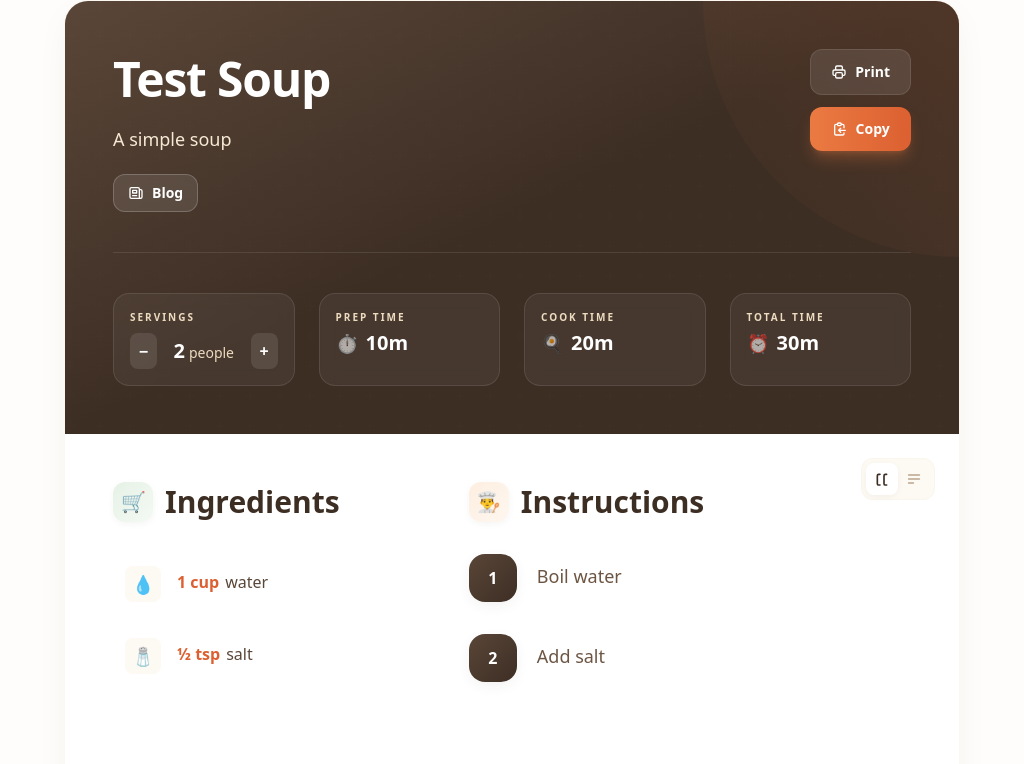
Test case: RecipeCard › switches to document view
Click the button titled "Document View": point(914, 479) [898,463,930,495]
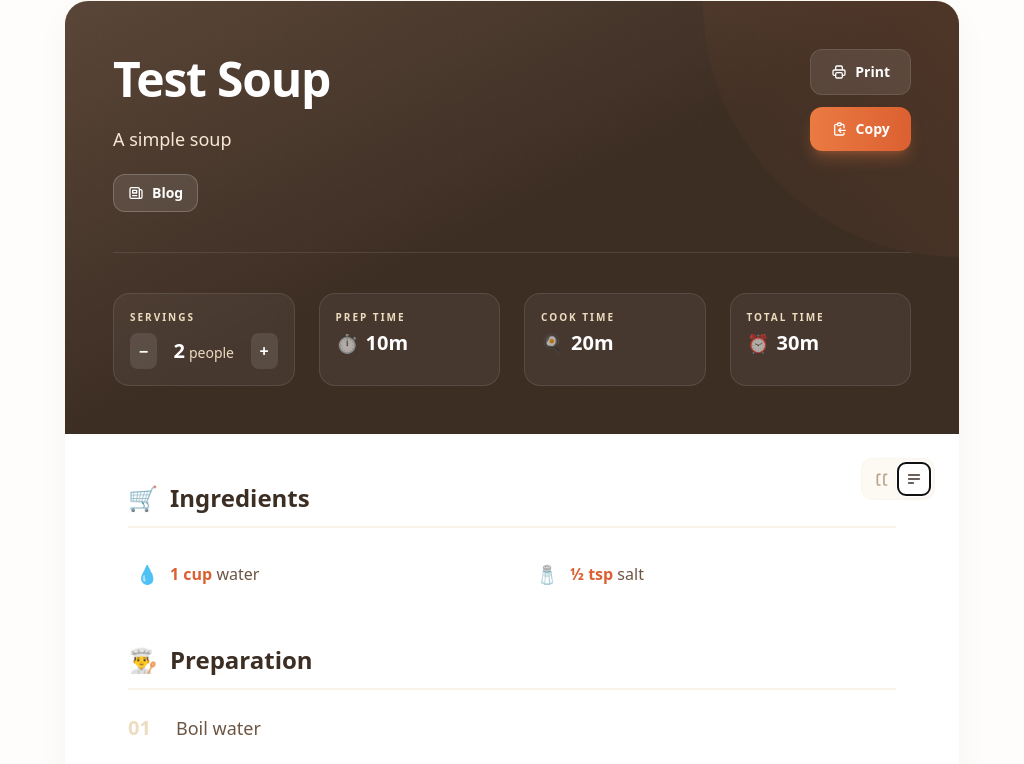
Now the heading "👨‍🍳 Preparation" is shown, box [128,644,896,690]
